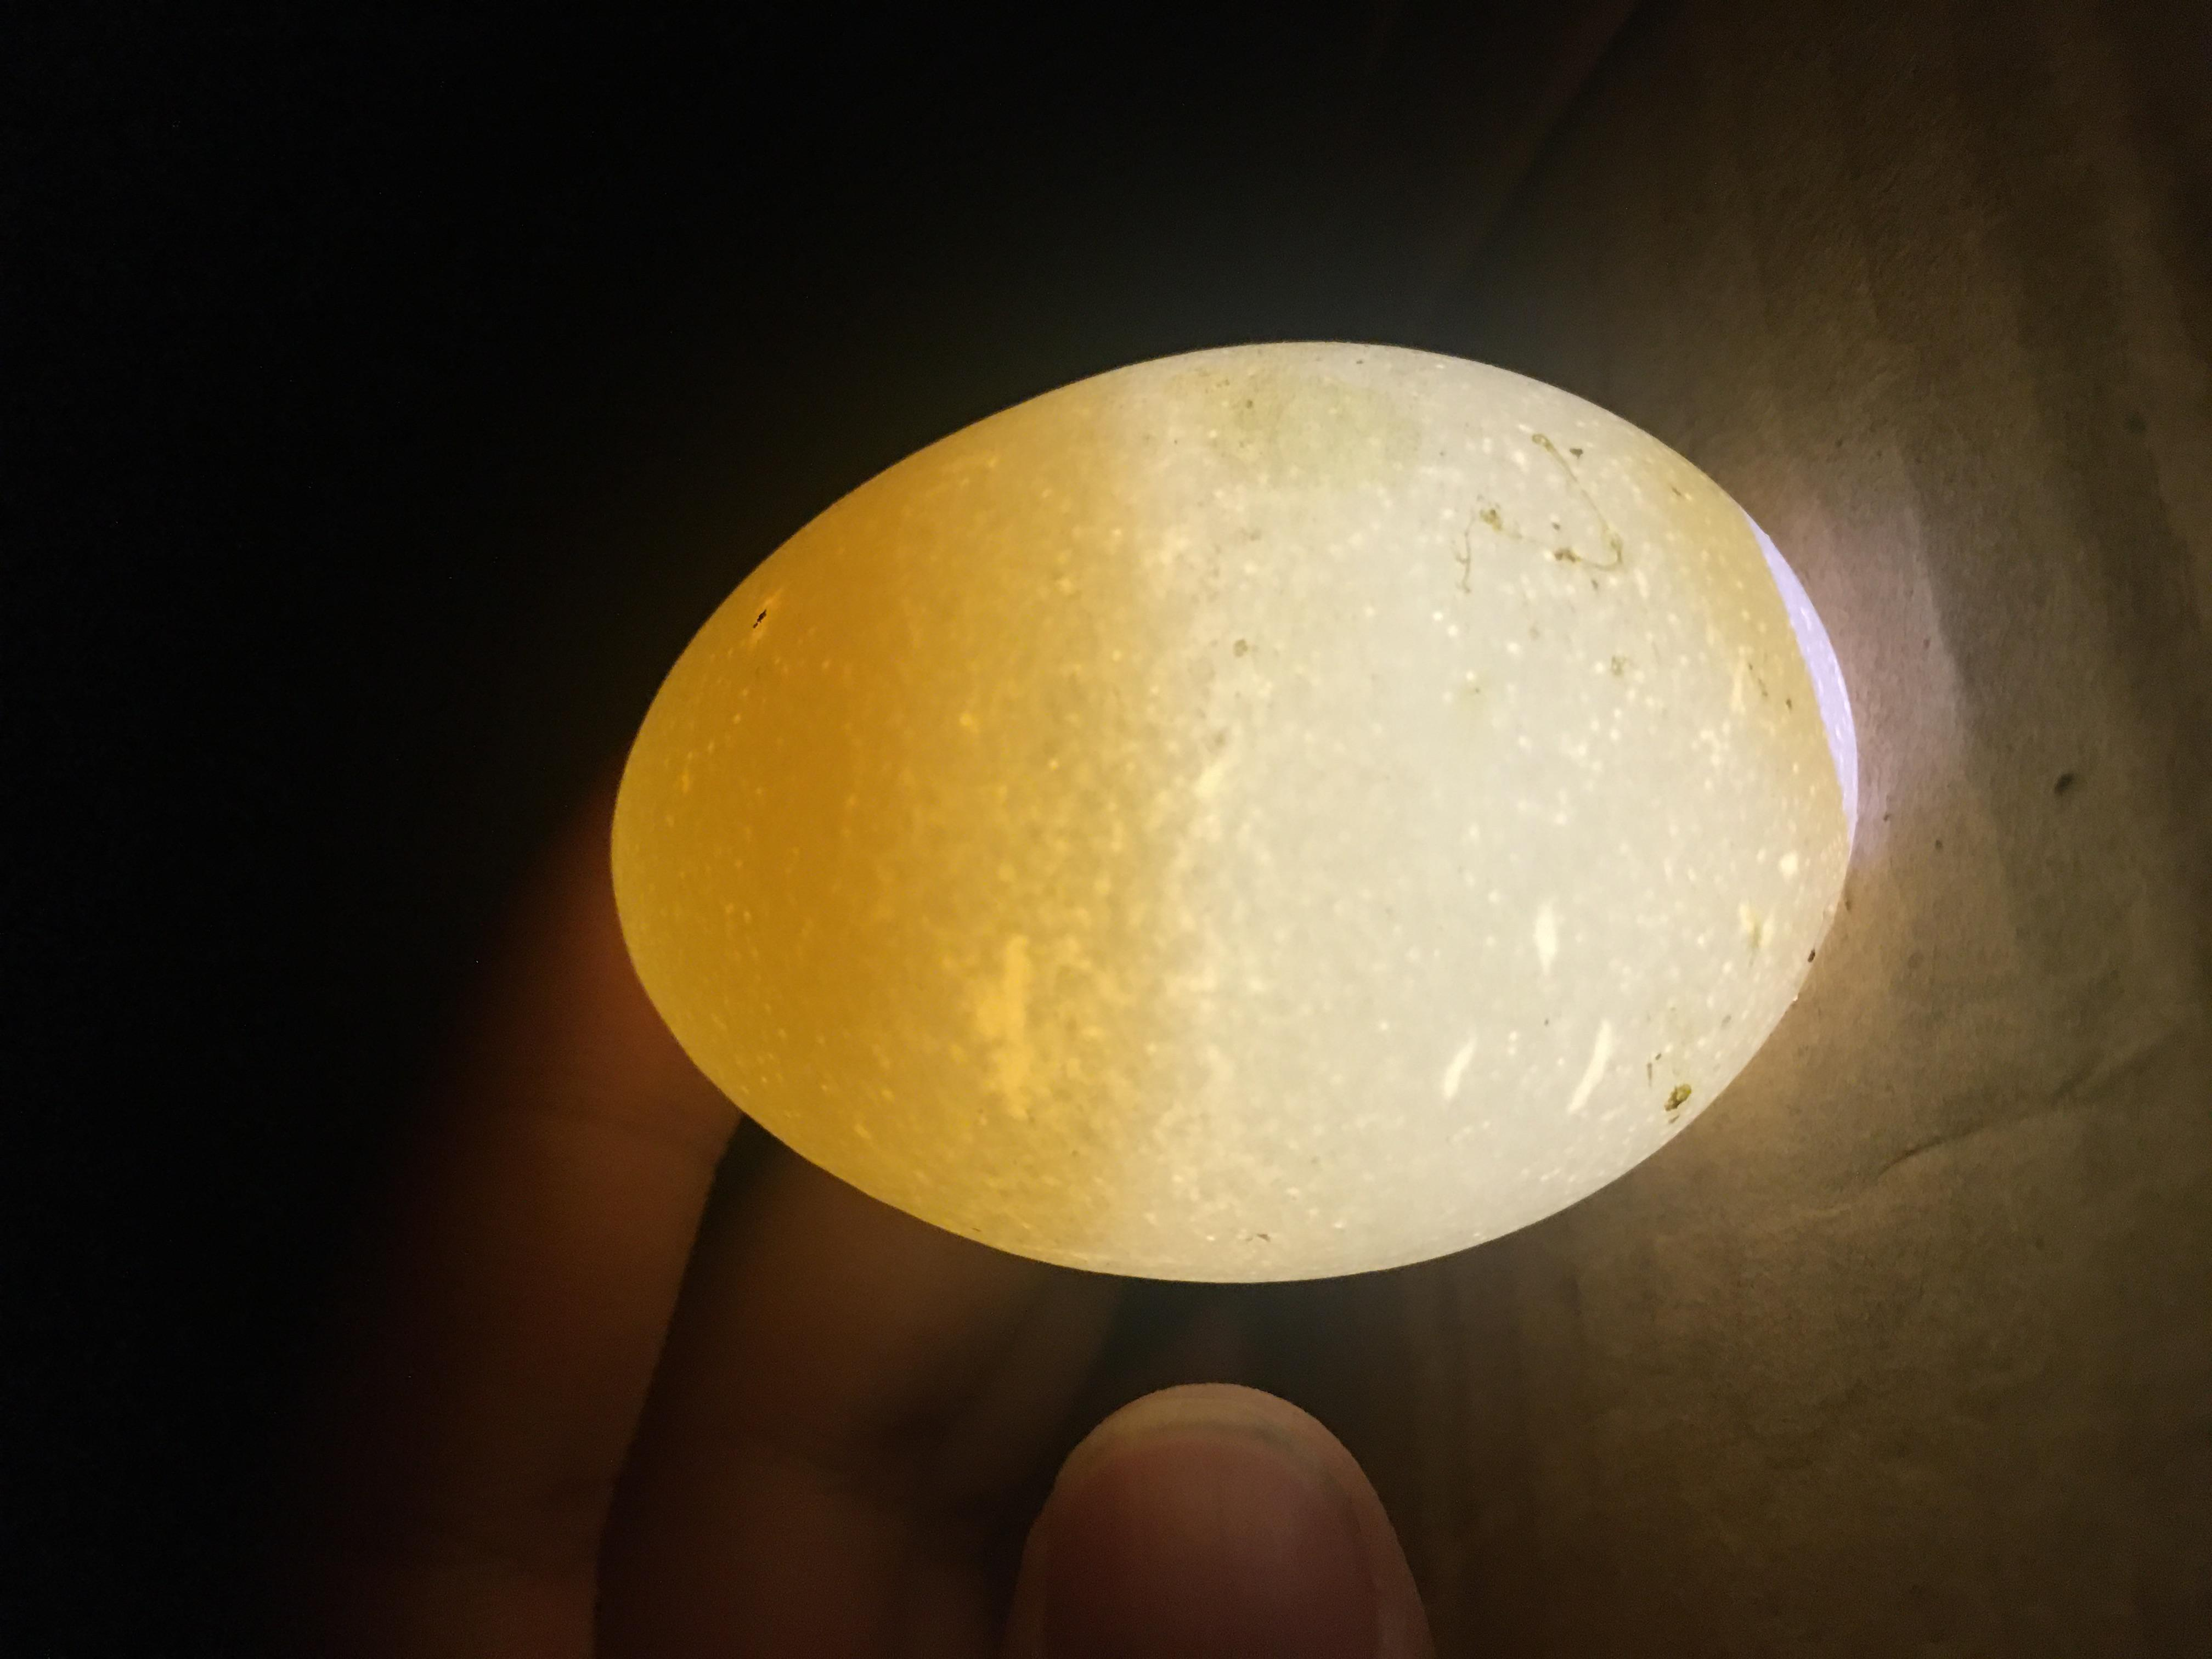A - Good: (475, 434, 1782, 1415)
